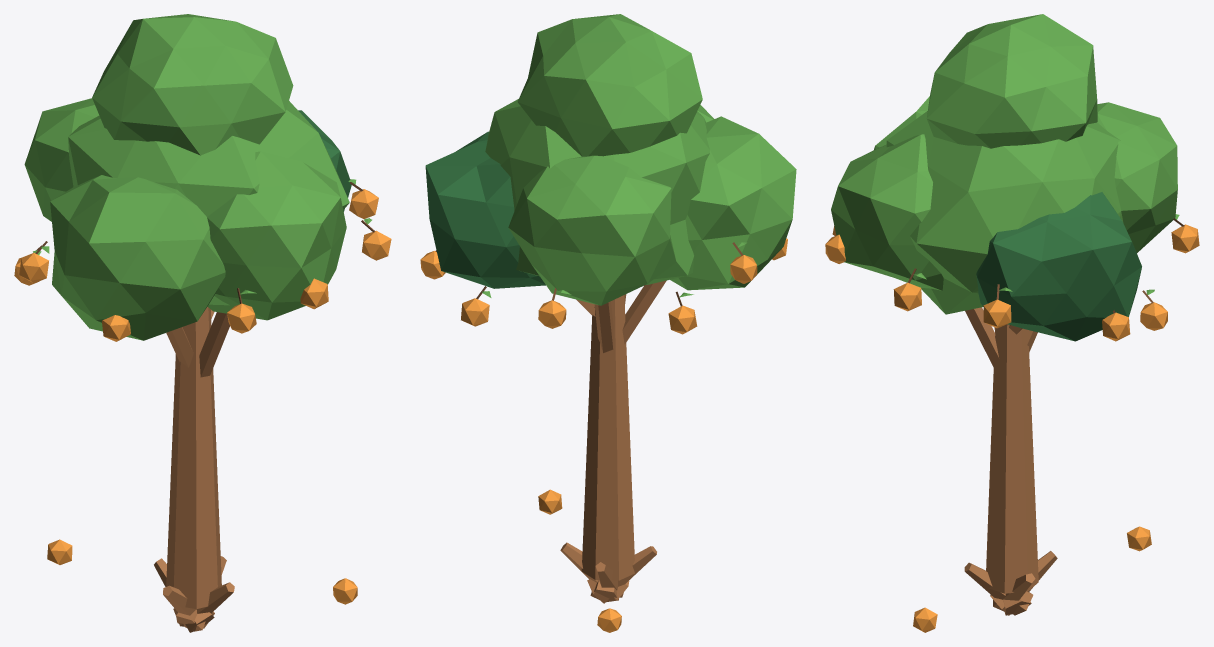
Rendered from fruit_tree.glb.
3 renders of one model, left to right at view 1: azimuth 30°, elevation 25°; view 2: azimuth 150°, elevation 25°; view 3: azimuth 270°, elevation 25°, orthographic. The views are drawn at different scales.
Visible parts, largest first — view 1: Fruit Tree; view 2: Fruit Tree; view 3: Fruit Tree.
Boxes of the visible parts, x1,y1,x2,y2 form: Fruit Tree: (14,14,391,632); Fruit Tree: (420,14,796,632); Fruit Tree: (825,14,1199,632).
Size of the model in its own units: 1.76 by 3.03 by 1.75.
1 material, 1 textured.
